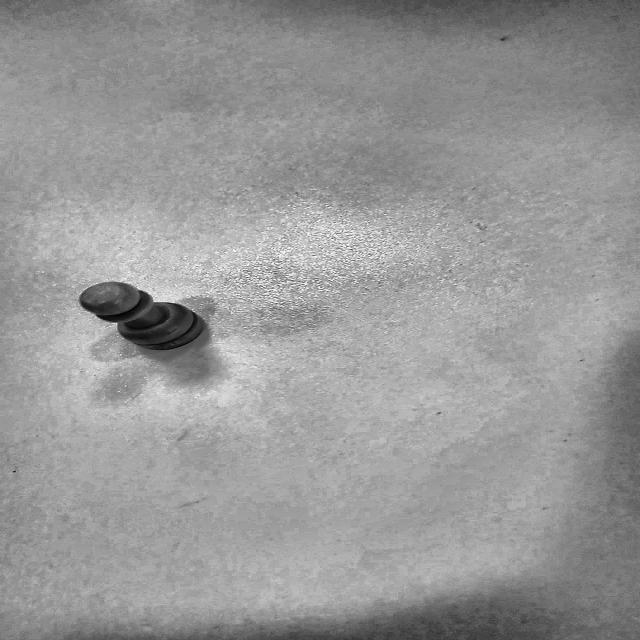white-pawn: (79, 282, 204, 351)
